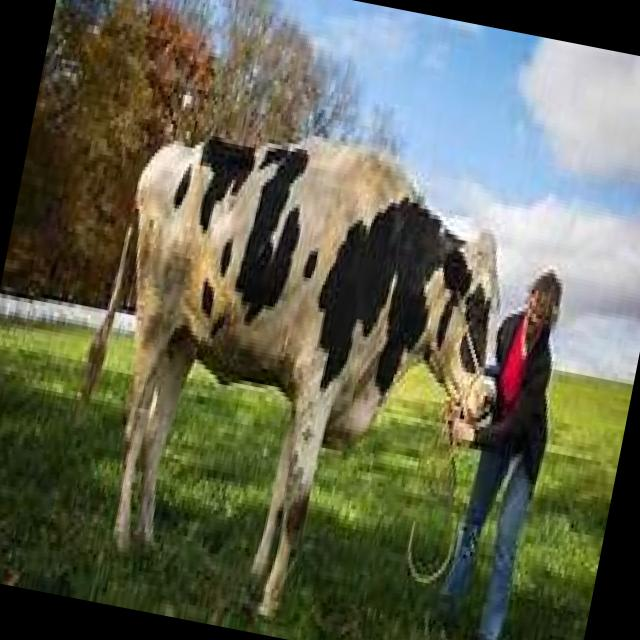cow: (59, 103, 537, 640)
